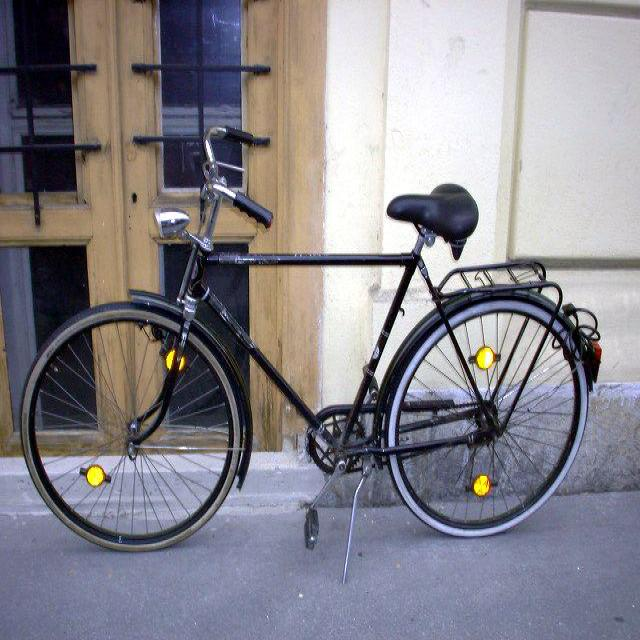bicycle: (19, 123, 602, 566)
